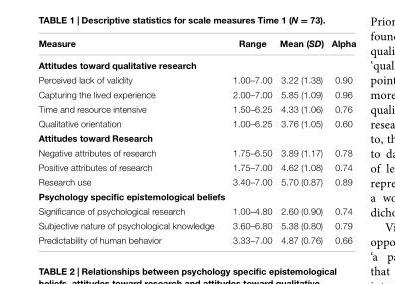table: (37, 37, 355, 244)
table column: (37, 37, 228, 244), (275, 37, 327, 244), (228, 37, 275, 244), (327, 37, 355, 244)
table column header: (37, 37, 355, 53)
table projected row header: (37, 53, 355, 71), (37, 188, 355, 203), (37, 130, 355, 144)
table row: (37, 53, 355, 71), (37, 37, 355, 53), (37, 71, 355, 86), (37, 86, 355, 101), (37, 115, 355, 130), (37, 144, 355, 159), (37, 173, 355, 188), (37, 188, 355, 203), (37, 217, 355, 232), (37, 101, 355, 115), (37, 130, 355, 144), (37, 159, 355, 173), (37, 203, 355, 217), (37, 232, 355, 244)
